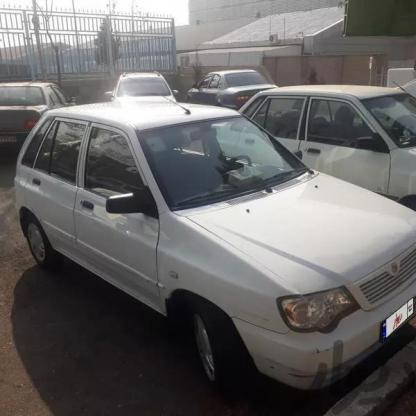Car: (0, 86, 416, 394), (235, 69, 416, 235), (0, 70, 77, 141), (197, 66, 292, 102), (105, 70, 188, 110)
